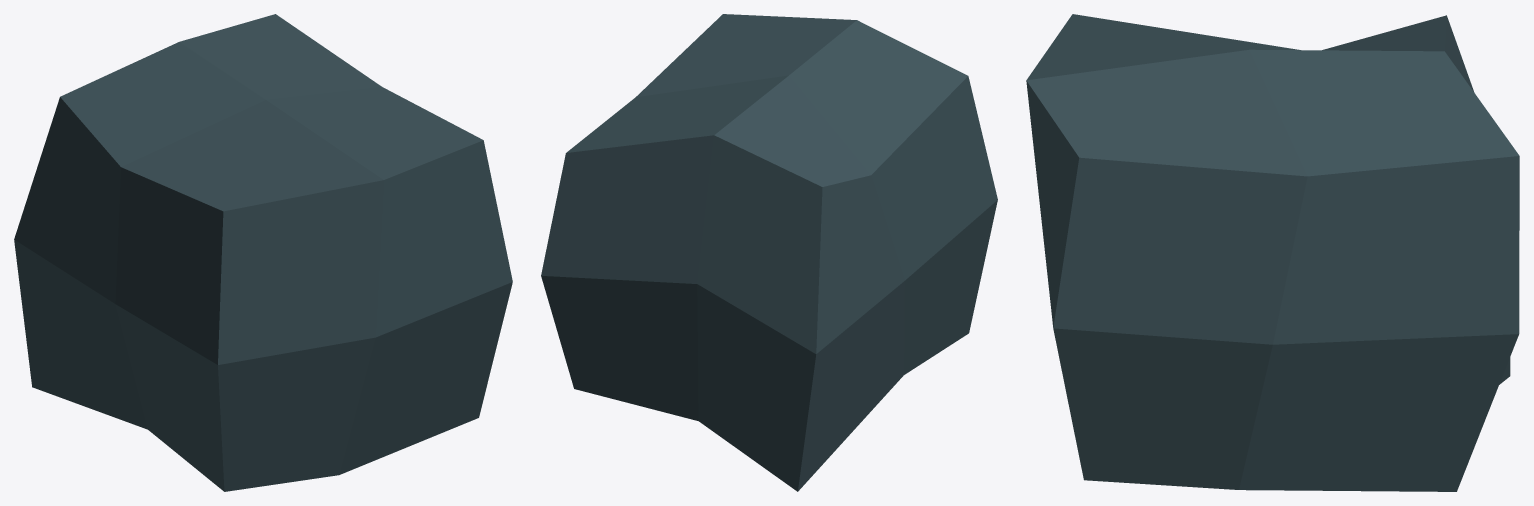
The model's file is pedra1.fbx.
3 renders of one model, left to right at view 1: azimuth 30°, elevation 25°; view 2: azimuth 150°, elevation 25°; view 3: azimuth 270°, elevation 25°, orthographic. The views are drawn at different scales.
Visible parts, largest first — view 1: pedra; view 2: pedra; view 3: pedra.
Boxes of the visible parts, x1=… form: pedra: x1=14, y1=14, x2=512, y2=491; pedra: x1=541, y1=14, x2=997, y2=491; pedra: x1=1026, y1=14, x2=1519, y2=491.
Bounding box in the file's own units: 16.3 × 17.33 × 19.49.
